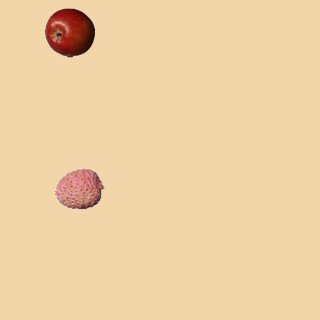Apple Braeburn: (44, 7, 94, 57)
Lychee: (54, 163, 104, 213)
